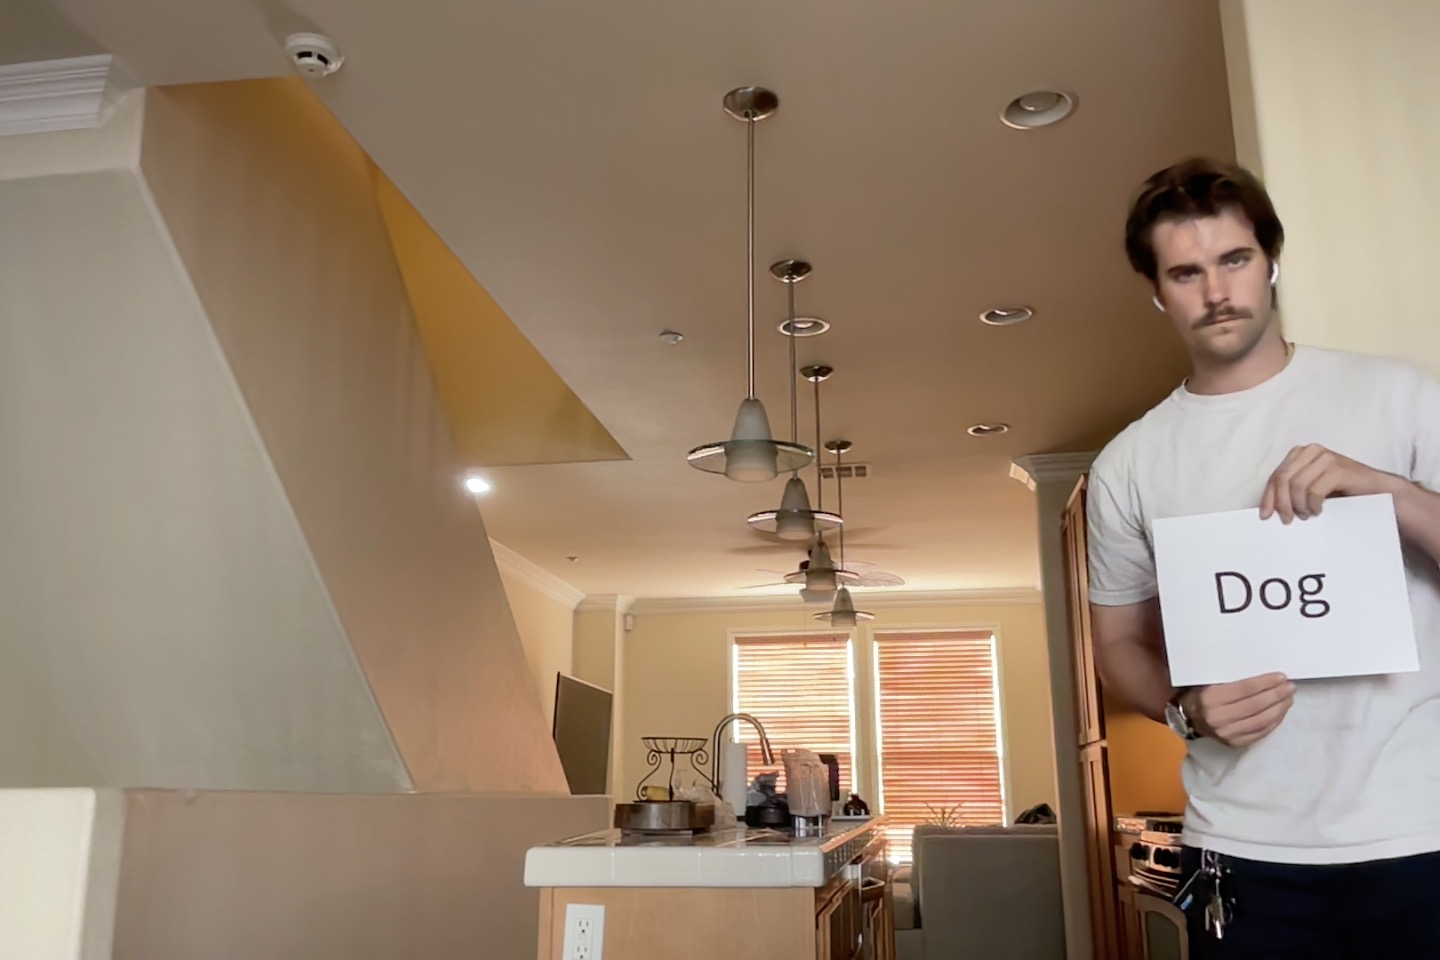word: (1213, 568, 1331, 621)
